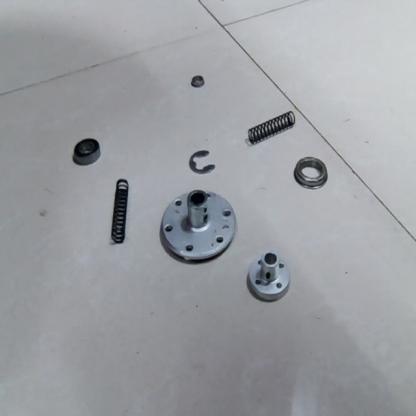FOD: (159, 187, 237, 264), (245, 250, 293, 301), (247, 108, 298, 150), (109, 176, 131, 249), (290, 155, 329, 188), (70, 137, 102, 170), (188, 146, 217, 175), (189, 72, 207, 90)
